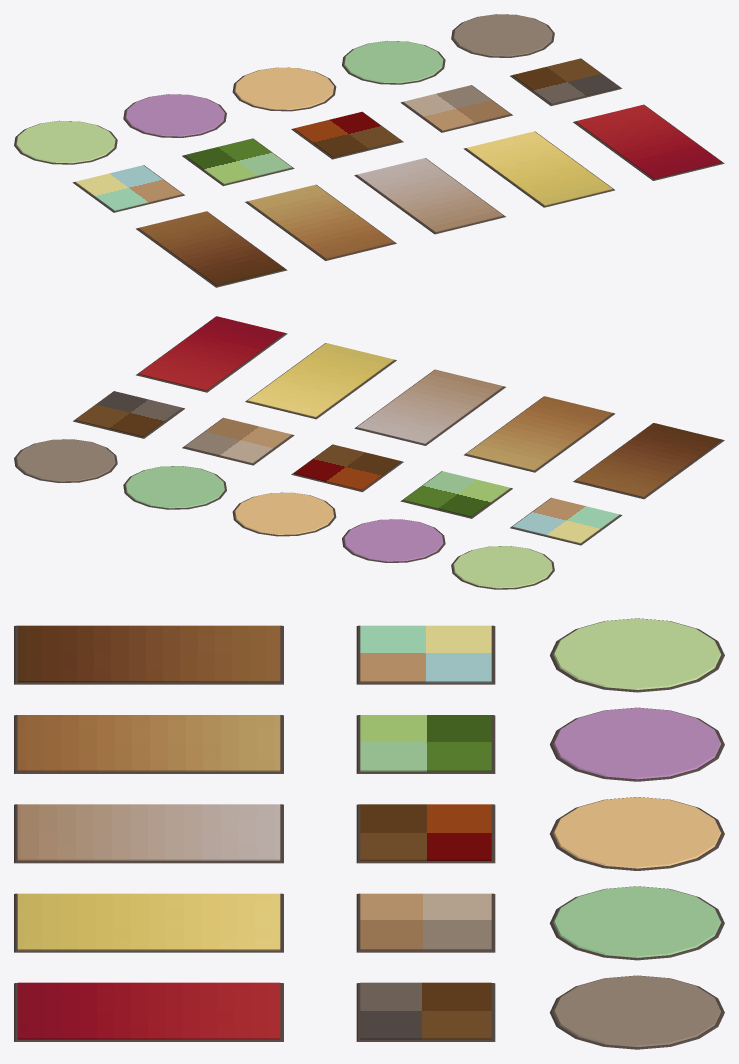
The model's file is Carpets.fbx.
The picture shows the model from 3 angles, top to bottom: view 1: azimuth 30°, elevation 25°; view 2: azimuth 150°, elevation 25°; view 3: azimuth 270°, elevation 25°; orthographic projection. The views are drawn at different scales.
Parts seen in each view (by area): view 1: Carpet13, Carpet15, Carpet11, Carpet12, Carpet14, Carpet01, Carpet03, Carpet04, Carpet02, Carpet05, Carpet08, Carpet06 (+3 smaller); view 2: Carpet12, Carpet15, Carpet13, Carpet14, Carpet11, Carpet03, Carpet04, Carpet01, Carpet02, Carpet05, Carpet06, Carpet09 (+3 smaller); view 3: Carpet13, Carpet11, Carpet14, Carpet15, Carpet12, Carpet01, Carpet02, Carpet04, Carpet05, Carpet03, Carpet06, Carpet08 (+3 smaller).
Boxes of the visible parts, <box> form: Carpet13: <box>354,158,505,234</box>; Carpet15: <box>573,104,724,180</box>; Carpet11: <box>136,211,287,287</box>; Carpet12: <box>245,184,396,260</box>; Carpet14: <box>463,131,614,207</box>; Carpet01: <box>14,120,117,164</box>; Carpet03: <box>232,67,336,111</box>; Carpet04: <box>342,40,445,84</box>; Carpet02: <box>123,94,226,137</box>; Carpet05: <box>451,14,554,57</box>; Carpet08: <box>291,111,403,159</box>; Carpet06: <box>72,165,184,212</box>; Carpet12: <box>464,396,615,472</box>; Carpet15: <box>136,316,287,392</box>; Carpet13: <box>354,369,505,445</box>; Carpet14: <box>245,343,396,419</box>; Carpet11: <box>573,423,724,499</box>; Carpet03: <box>232,492,336,536</box>; Carpet04: <box>123,466,226,509</box>; Carpet01: <box>451,546,554,589</box>; Carpet02: <box>342,519,445,562</box>; Carpet05: <box>14,439,117,482</box>; Carpet06: <box>510,497,622,545</box>; Carpet09: <box>182,417,294,465</box>; Carpet13: <box>14,804,283,863</box>; Carpet11: <box>14,625,283,684</box>; Carpet14: <box>14,893,283,952</box>; Carpet15: <box>14,982,283,1041</box>; Carpet12: <box>14,715,283,773</box>; Carpet01: <box>550,618,724,692</box>; Carpet02: <box>550,707,724,781</box>; Carpet04: <box>549,886,724,960</box>; Carpet05: <box>549,975,724,1049</box>; Carpet03: <box>550,797,724,870</box>; Carpet06: <box>356,625,495,684</box>; Carpet08: <box>356,804,495,863</box>.
Size of the model in its own units: 1932 by 4.38 by 1346.
